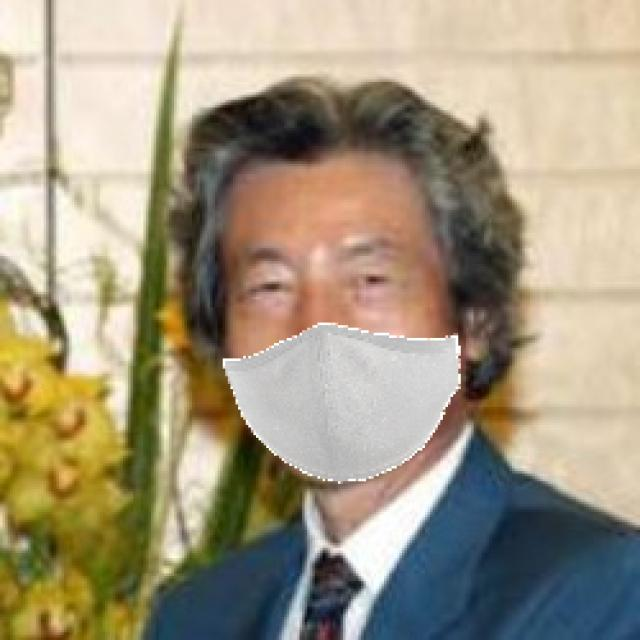mask: (210, 313, 482, 483)
